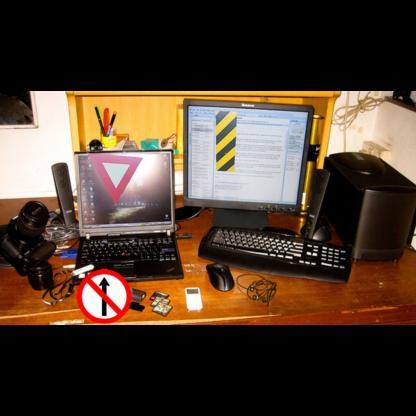O-MP: (215, 111, 237, 171)
R-2: (87, 153, 143, 205)
R-3: (76, 269, 132, 324)
